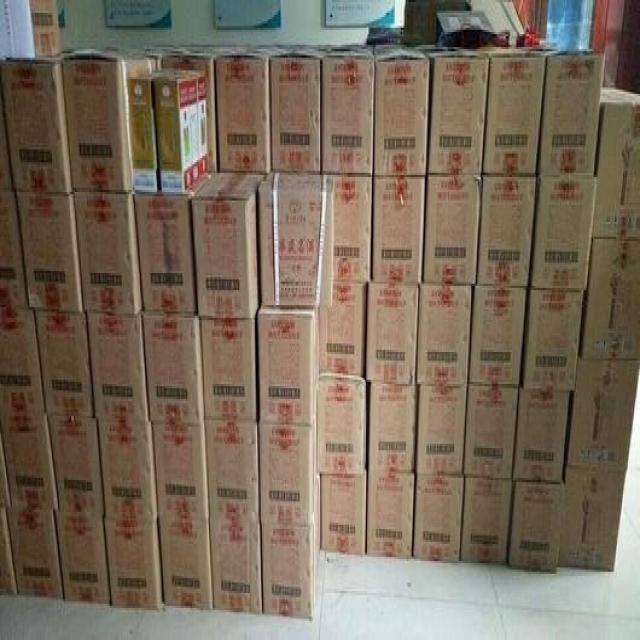box: (63, 47, 157, 190), (193, 175, 267, 318), (258, 173, 334, 305), (1, 62, 72, 194), (566, 358, 640, 469), (75, 194, 142, 316), (483, 47, 546, 175), (263, 486, 321, 621), (426, 49, 488, 175), (540, 55, 604, 175), (17, 196, 82, 311), (533, 177, 598, 290), (258, 307, 320, 425), (374, 43, 429, 175), (581, 239, 640, 361), (559, 469, 628, 570), (594, 87, 639, 239), (136, 198, 196, 311), (144, 316, 204, 427), (261, 410, 319, 523), (324, 45, 374, 175), (88, 316, 149, 422), (156, 70, 209, 192), (127, 68, 179, 192), (477, 177, 535, 286), (216, 55, 269, 173), (163, 51, 215, 171), (522, 290, 584, 390), (424, 179, 481, 286), (99, 422, 157, 521), (272, 53, 320, 171), (37, 314, 93, 414), (469, 286, 526, 384), (1, 414, 59, 510), (372, 179, 425, 284), (202, 320, 256, 422), (152, 427, 209, 523), (366, 282, 419, 384), (418, 284, 471, 386), (205, 422, 258, 523), (50, 416, 104, 514), (56, 512, 111, 606), (105, 521, 163, 610), (465, 386, 518, 480), (508, 484, 564, 572), (516, 390, 569, 482), (316, 378, 366, 474), (210, 523, 262, 614), (8, 512, 63, 597), (0, 311, 45, 414), (161, 523, 213, 610), (417, 386, 467, 476), (413, 476, 464, 561), (461, 476, 512, 561), (320, 284, 367, 375), (333, 175, 372, 284), (367, 471, 415, 557), (370, 384, 417, 471), (0, 0, 62, 58), (322, 476, 365, 555), (0, 192, 28, 307), (0, 510, 19, 597), (0, 62, 11, 188), (0, 431, 11, 508)
